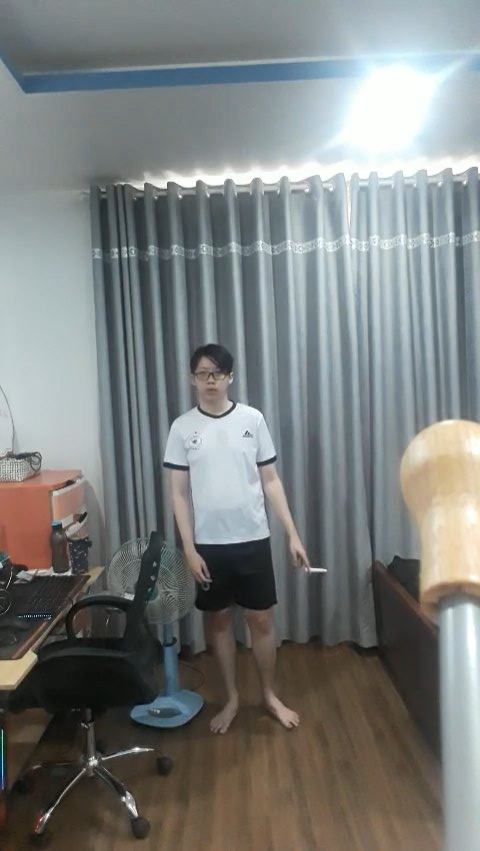cigarette: (305, 564, 330, 575)
person: (162, 333, 320, 738)
